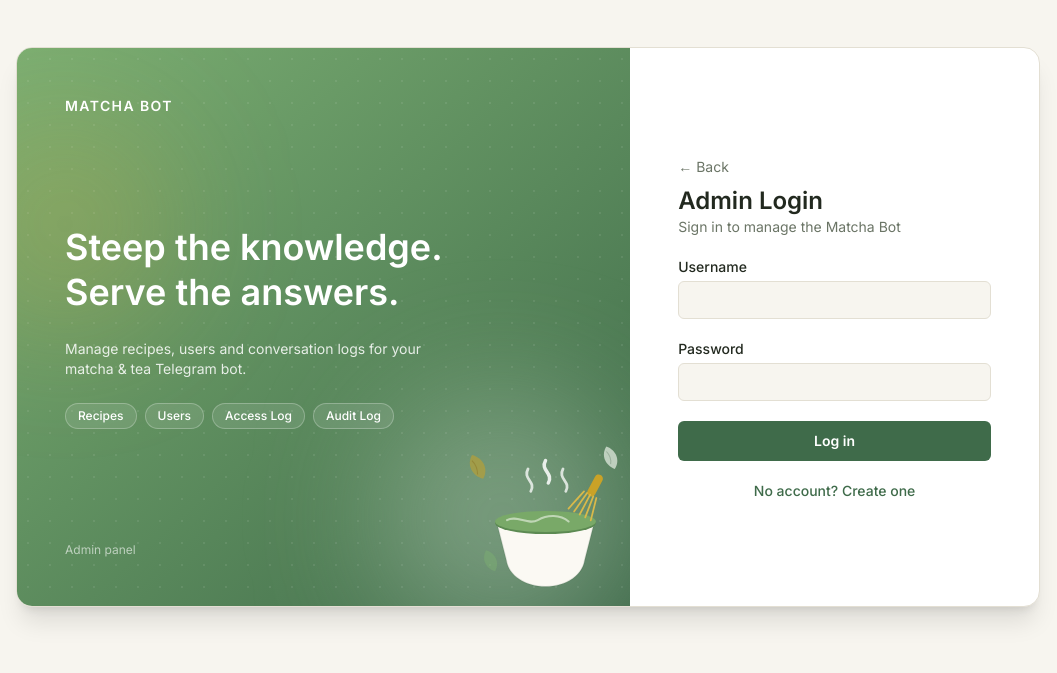
it: LoginPage › registration › explains the rules when the server rejects the input
Click the button "No account? Create one".
click(835, 490)  # box [678, 480, 991, 500]
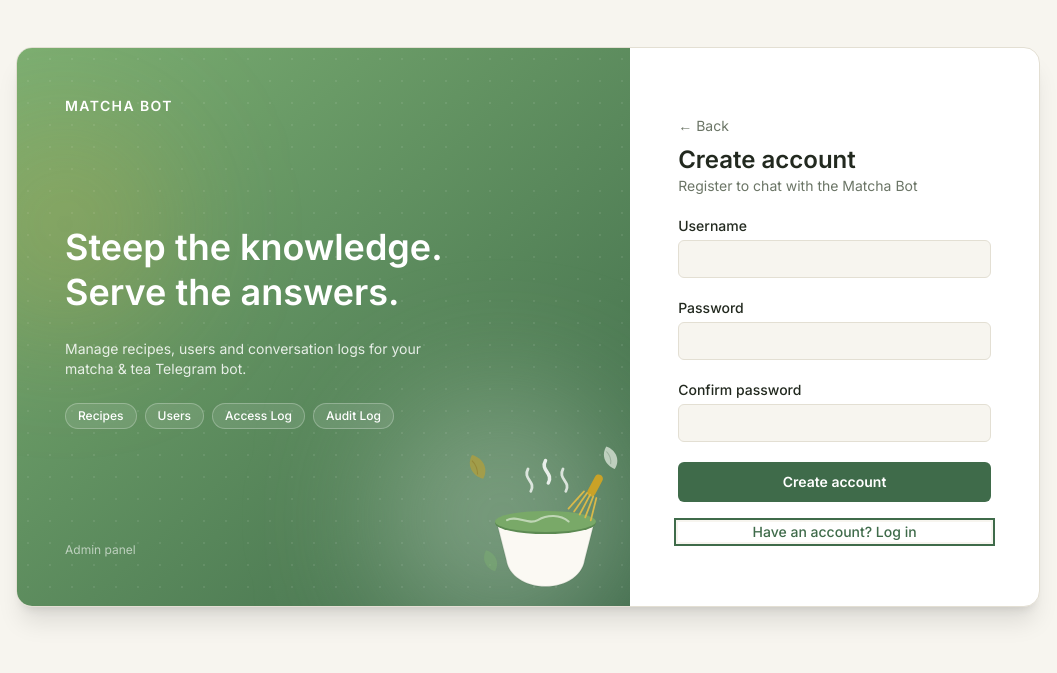
Type "linh" into the field labelled "Username".
click(835, 258); type("linh")  # box [678, 240, 991, 278]
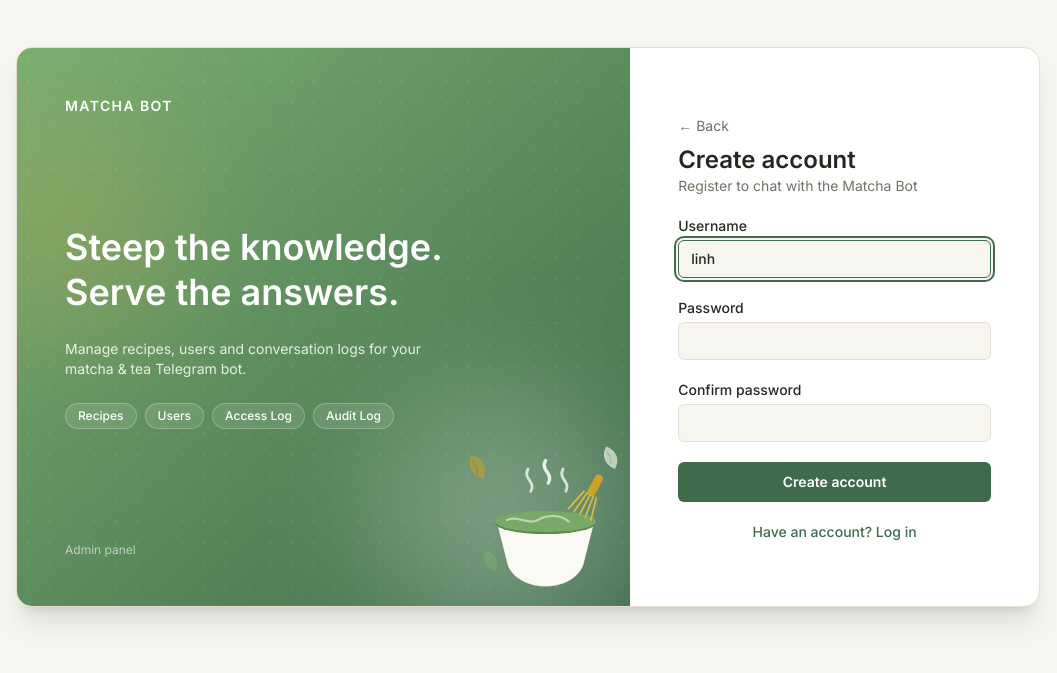
Type "matcha-lover" into the password field labelled "Password".
click(835, 340); type("matcha-lover")  # box [678, 322, 991, 360]
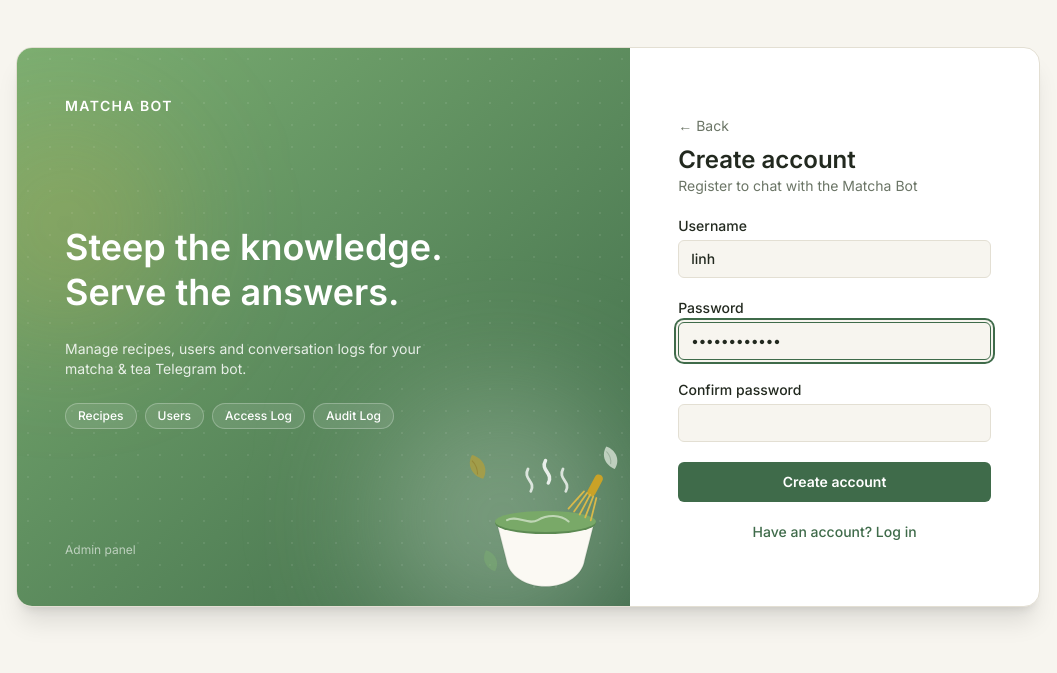
Type "matcha-lover" into the password field labelled "Confirm password".
click(835, 422); type("matcha-lover")  # box [678, 404, 991, 442]
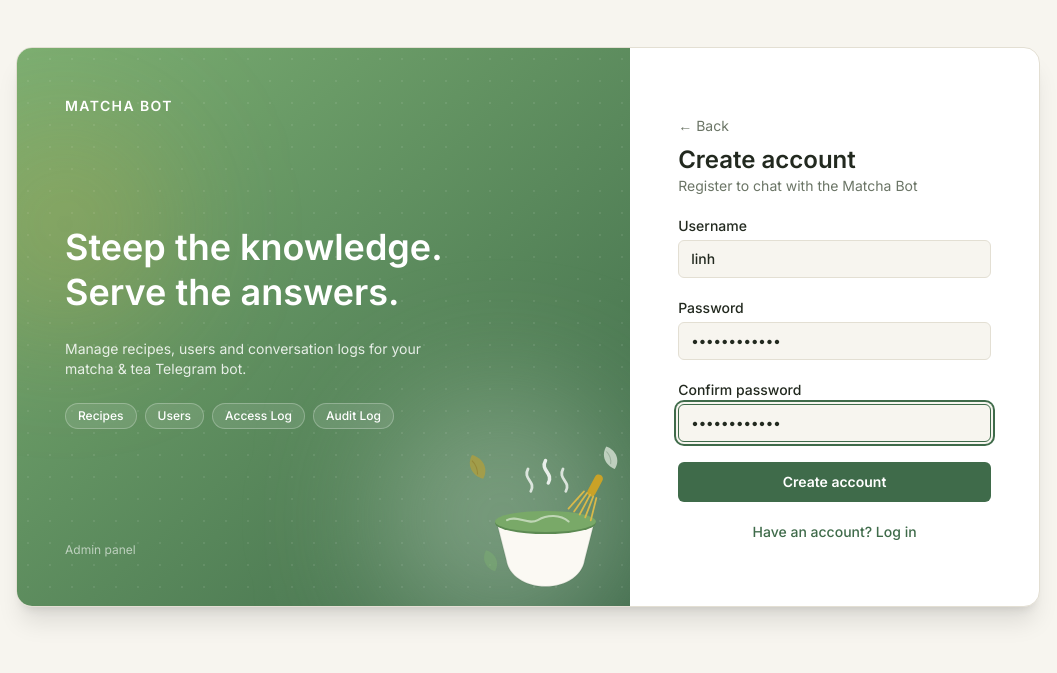
Click the button "Create account".
click(835, 482)  # box [678, 462, 991, 502]
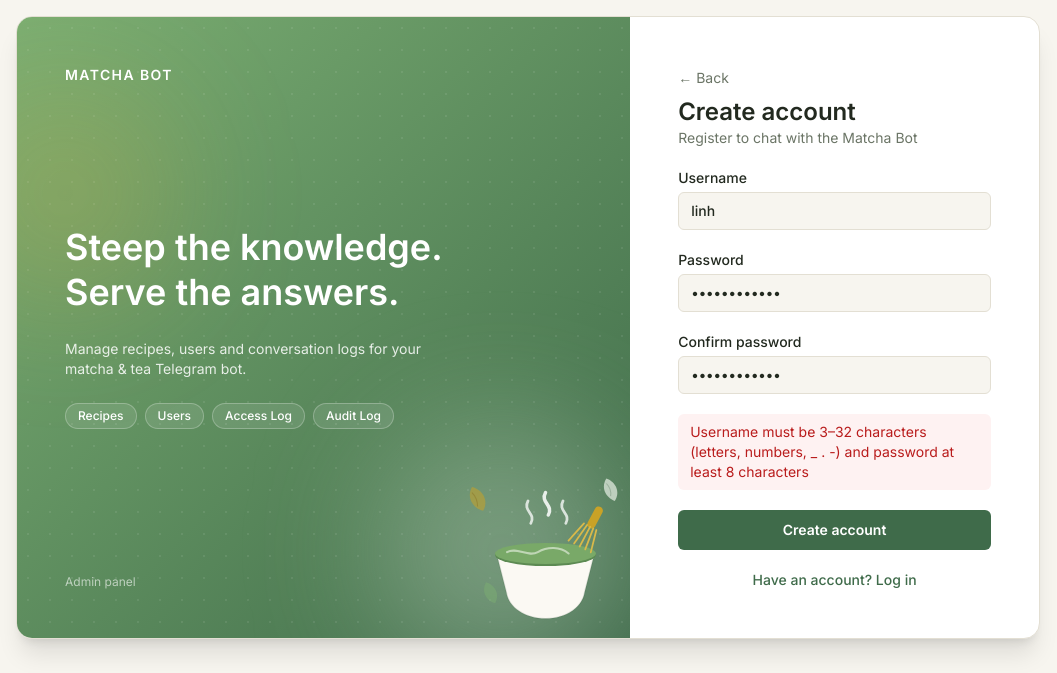
Now the message shows "Username must be 3–32 characters (letters, numbers, _ . -) and password at least 8 characters", box [690, 422, 954, 480]
